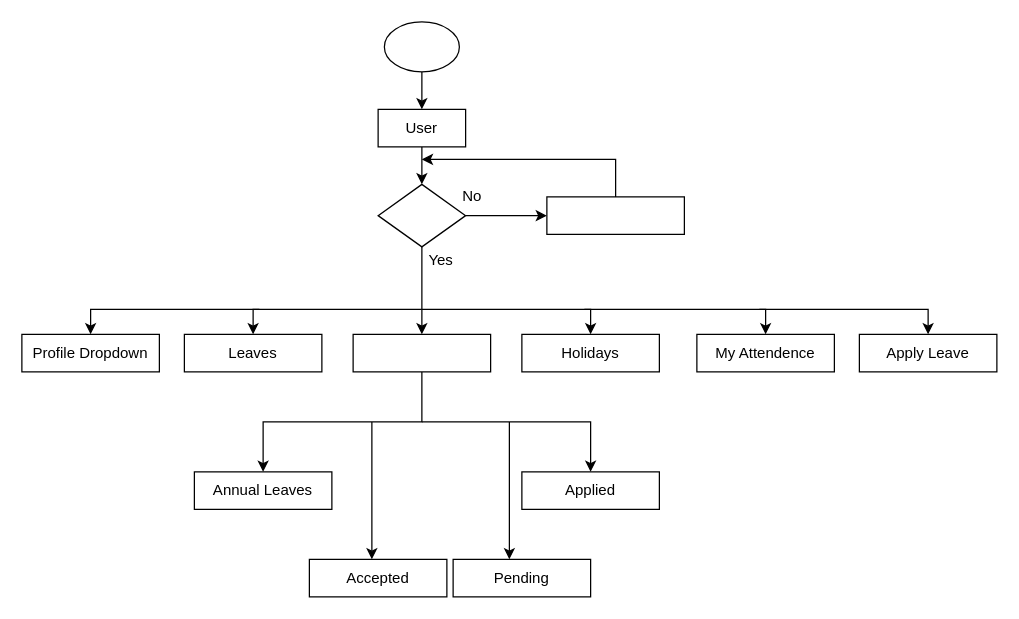
The diagram is 1019 pixels wide and 619 high, and some of its shapes have lost their labels. The shapes that lost their labels are listed below. From the top down, each one's box as (x1, y1, x2, y2) in pixels, then its label:
(383, 21, 459, 72): Start
(377, 183, 466, 247): Login
(546, 196, 684, 234): Registration
(352, 333, 491, 372): Dashboard
